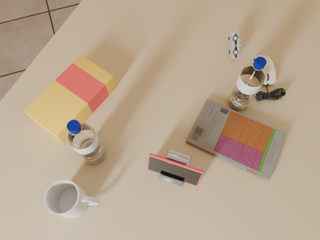book: (186, 99, 286, 181)
bottle: (229, 57, 266, 110), (66, 120, 105, 164)
box: (24, 55, 116, 144)
cup: (44, 179, 99, 218)
mouse: (253, 55, 276, 87)
phone: (147, 153, 203, 185)
toy_car: (228, 32, 241, 59)
